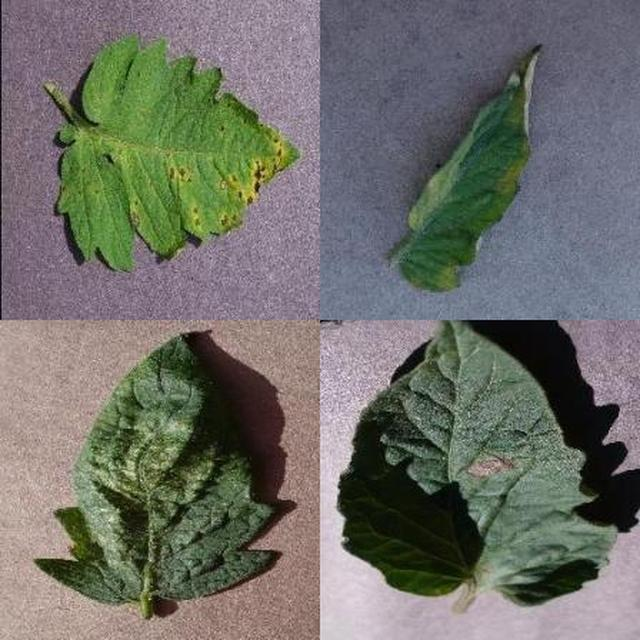Septoria Leaf: (197, 218, 640, 640)
